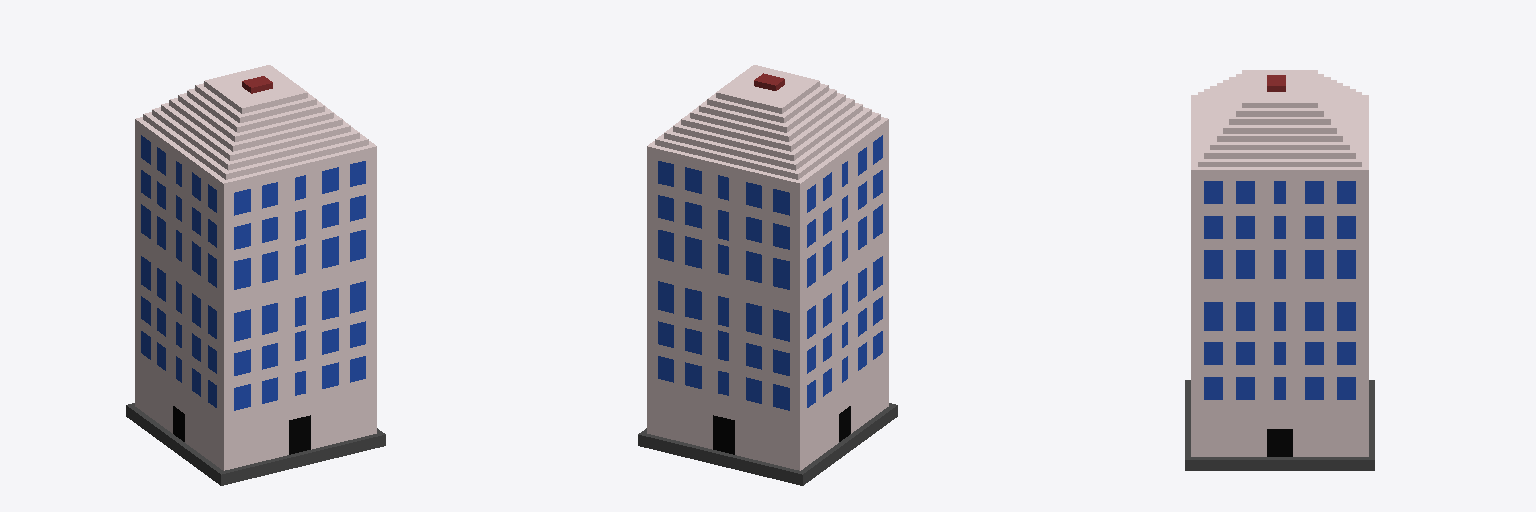
3 views of the same model, side by side, from view 1: azimuth 30°, elevation 25°; view 2: azimuth 150°, elevation 25°; view 3: azimuth 270°, elevation 25° (orthographic).
Size of the model in its own units: 30 by 61 by 30.
1 materials, 1 textured.